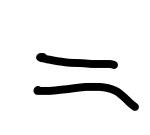eqv: (34, 52, 139, 111)
